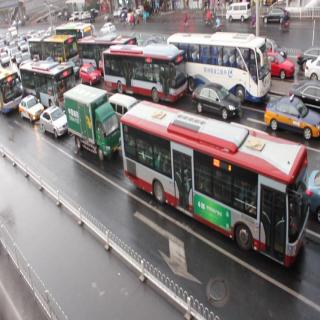BigCar: (122, 105, 307, 283), (188, 30, 271, 98), (100, 42, 187, 102), (63, 86, 120, 166), (19, 60, 73, 112), (0, 69, 22, 117)
Car: (262, 92, 318, 140), (192, 80, 242, 118), (41, 100, 66, 142), (270, 50, 296, 85), (18, 94, 42, 125), (264, 6, 288, 29), (224, 2, 250, 22), (80, 62, 100, 87), (101, 23, 117, 35)
